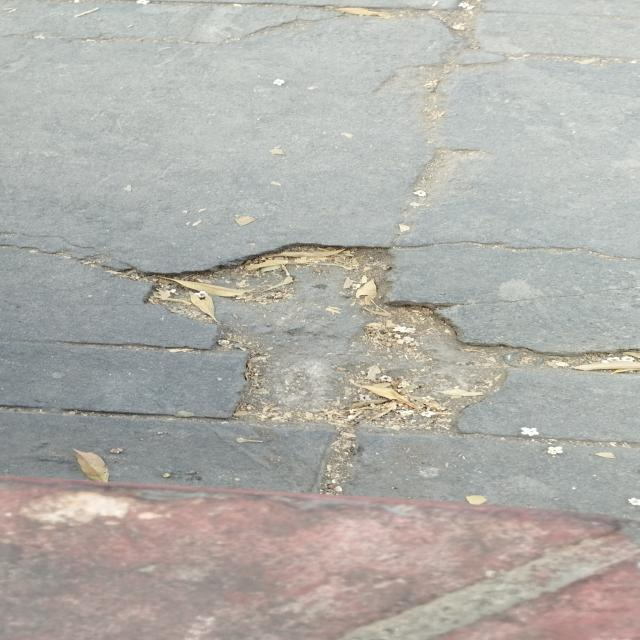hole: (118, 242, 521, 436)
